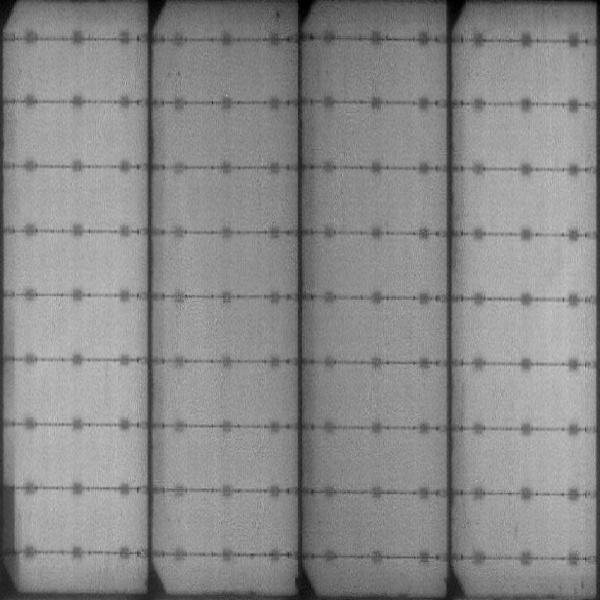black_border: (1, 481, 19, 585)
